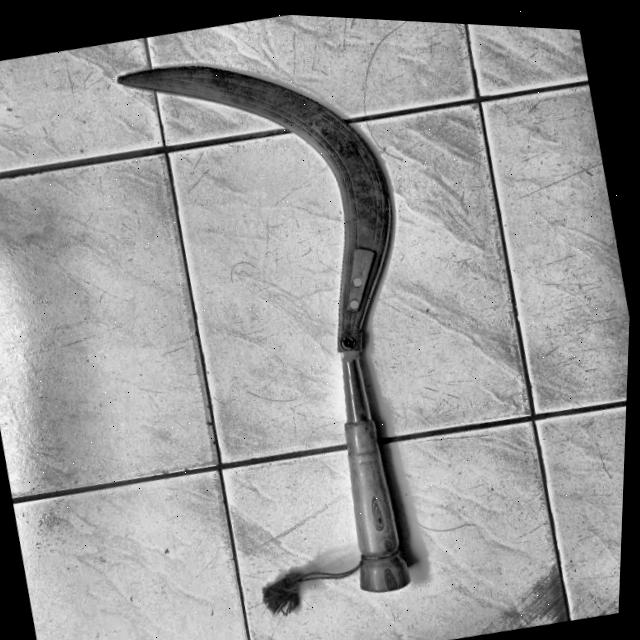celurit: (93, 58, 430, 610)
